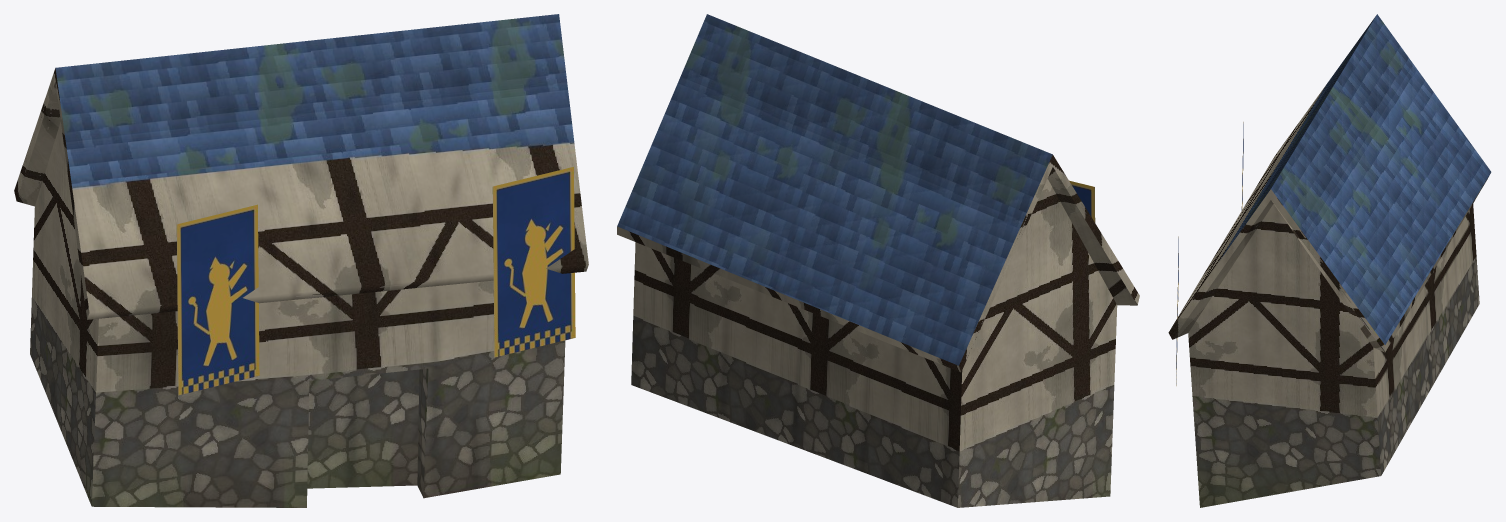
The model's file is house_06_card.glb.
The picture shows the model from 3 angles, left to right: view 1: azimuth 30°, elevation 25°; view 2: azimuth 150°, elevation 25°; view 3: azimuth 270°, elevation 25°; orthographic projection. The views are drawn at different scales.
Parts seen in each view (by area): view 1: house_06_game_card; view 2: house_06_game_card; view 3: house_06_game_card.
Part boxes in pixels (<box>): house_06_game_card: <box>14,14,588,507</box>; house_06_game_card: <box>617,14,1139,507</box>; house_06_game_card: <box>1168,14,1491,507</box>.
Size of the model in its own units: 8.5 by 6.96 by 6.01.
1 material, 1 textured.
